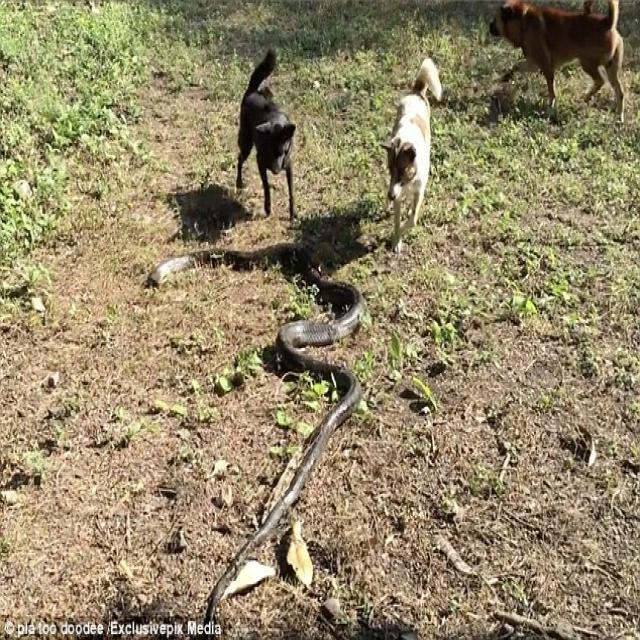Snake: (144, 242, 364, 636)
